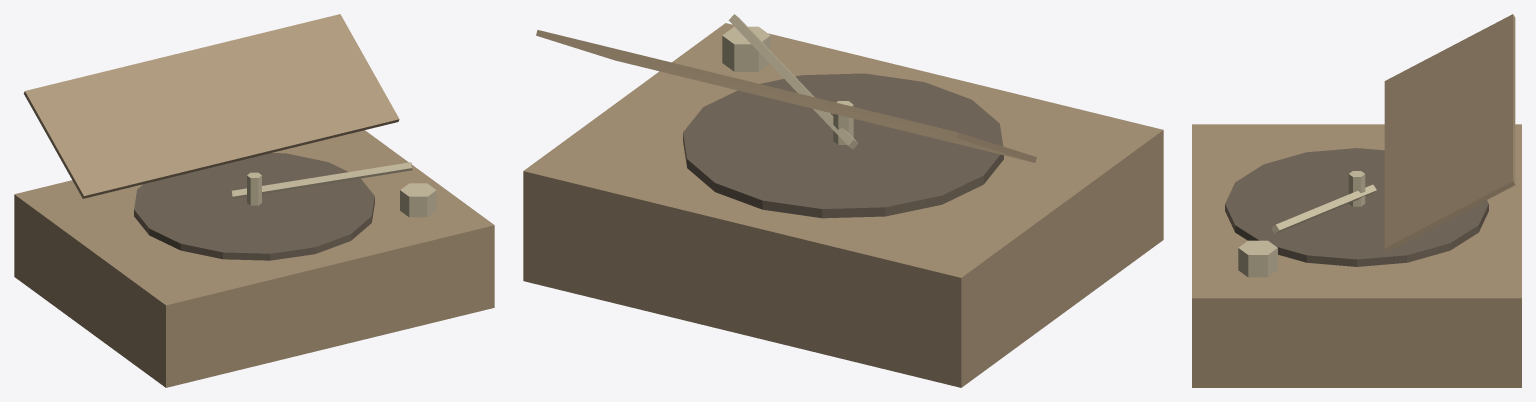
File: record_player.glb
The picture shows the model from 3 angles, left to right: view 1: azimuth 30°, elevation 25°; view 2: azimuth 150°, elevation 25°; view 3: azimuth 270°, elevation 25°; orthographic projection. The views are drawn at different scales.
Parts seen in each view (by area): view 1: RecordPlayer; view 2: RecordPlayer; view 3: RecordPlayer.
Boxes of the visible parts, x1,y1,x2,y2 form: RecordPlayer: (14,14,494,387); RecordPlayer: (523,14,1163,387); RecordPlayer: (1192,14,1521,387).
Size of the model in its own units: 0.25 by 0.1361 by 0.2.
